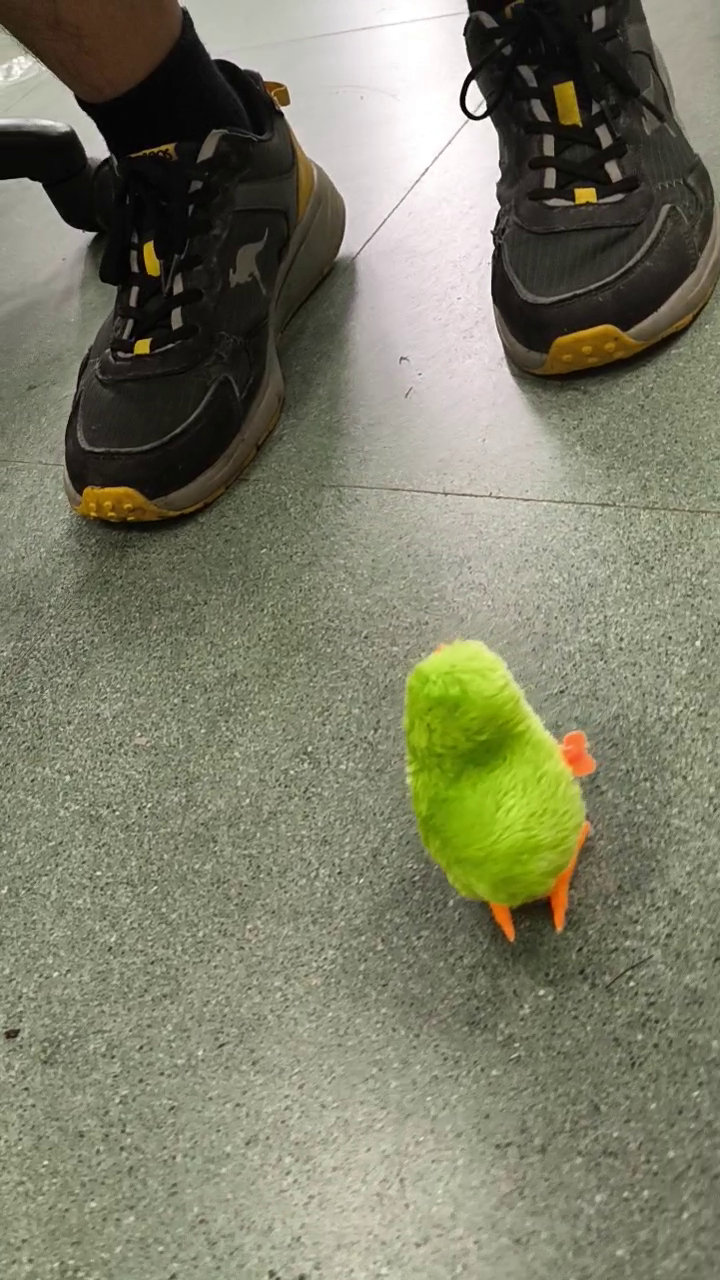green chicken: (394, 633, 600, 944)
